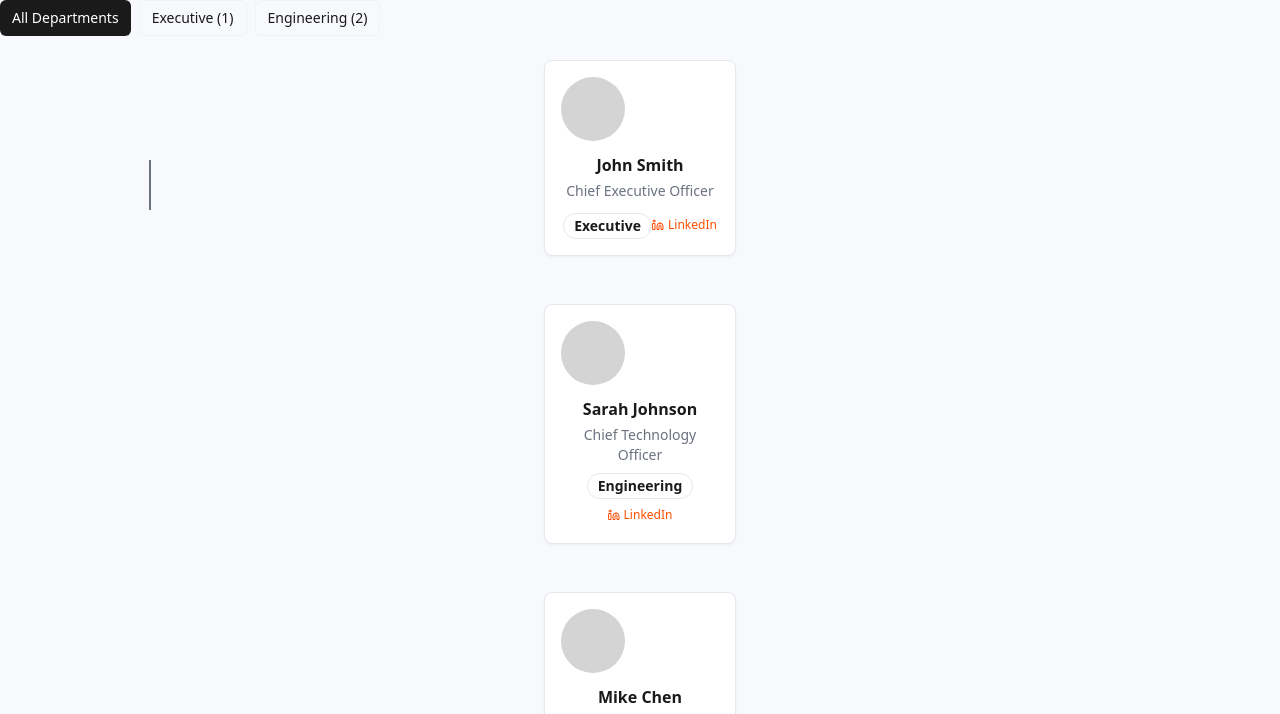
Scenario: InteractiveOrgChart › displays member modal on click
Click the button with test id "member-1" at (640, 158), box [544,60,736,256]
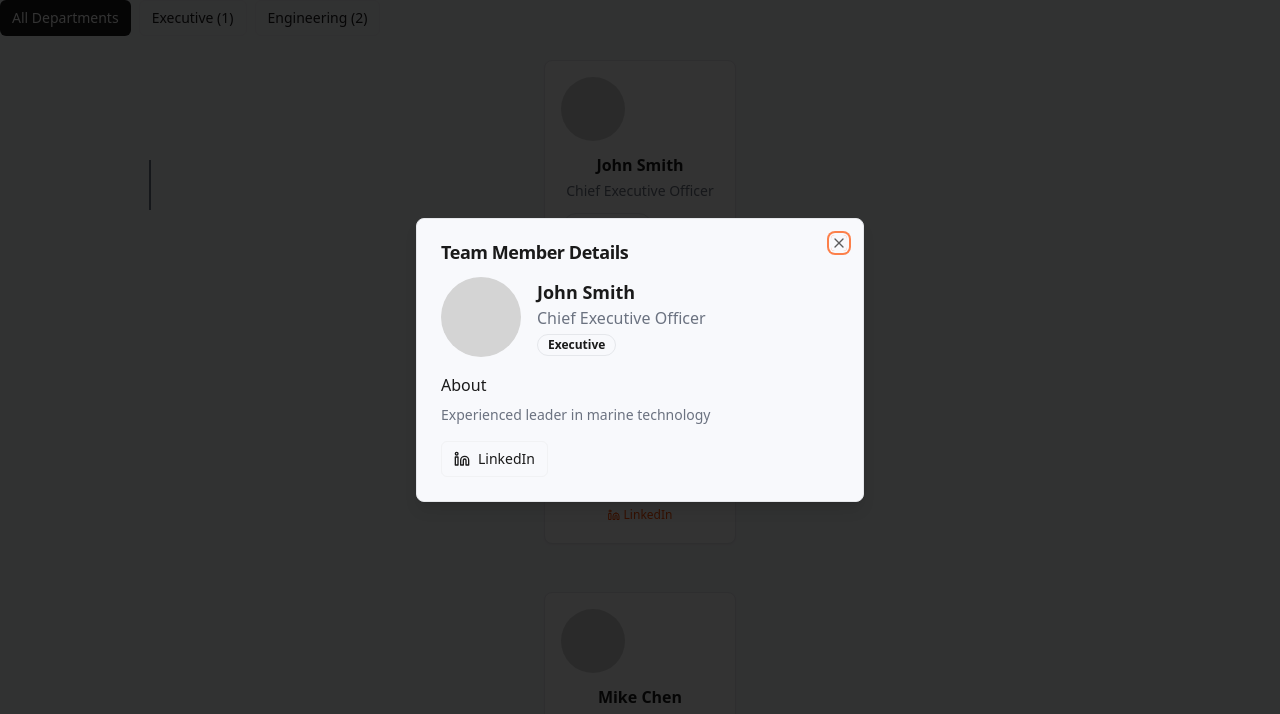
Check: the dialog with test id "member-modal" is shown, box [416,218,864,502]
Check: the text "Experienced leader in marine technology" is shown, box [441,405,710,424]
